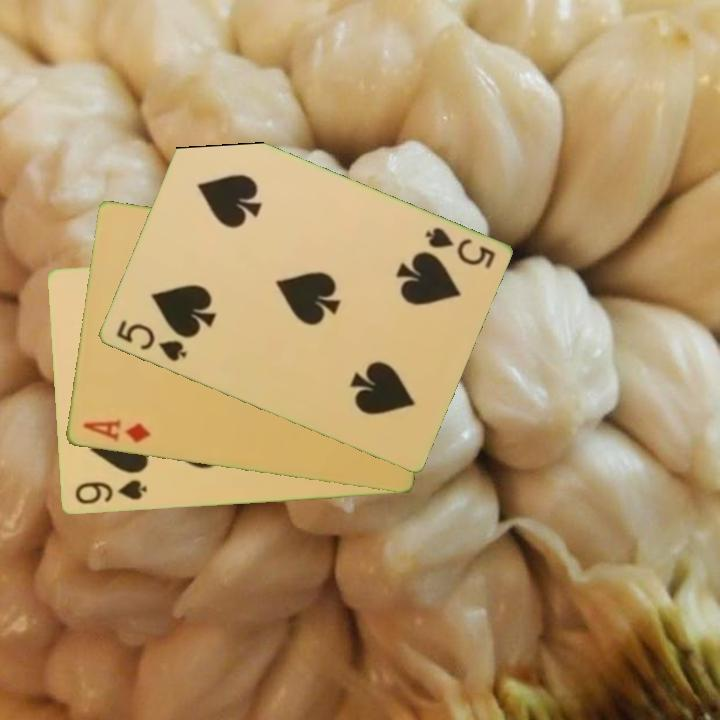5s: (112, 316, 190, 365), (421, 224, 498, 272)
9s: (71, 476, 149, 508)
Ad: (79, 417, 153, 446)
